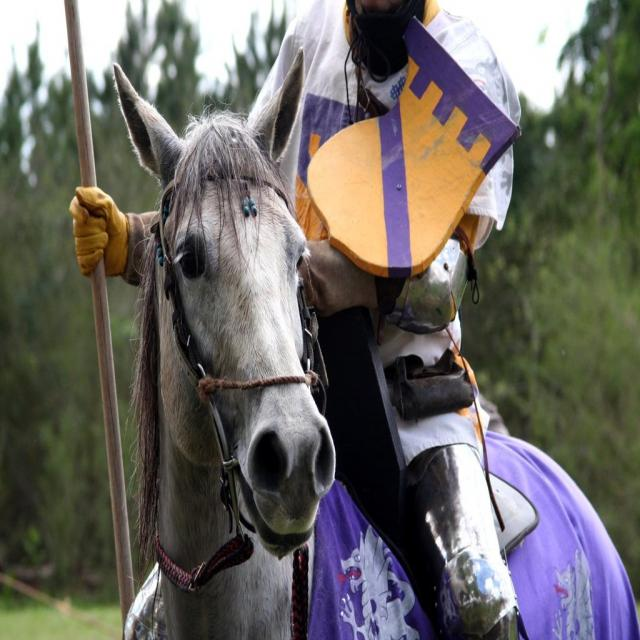Horse: (112, 47, 640, 640)
